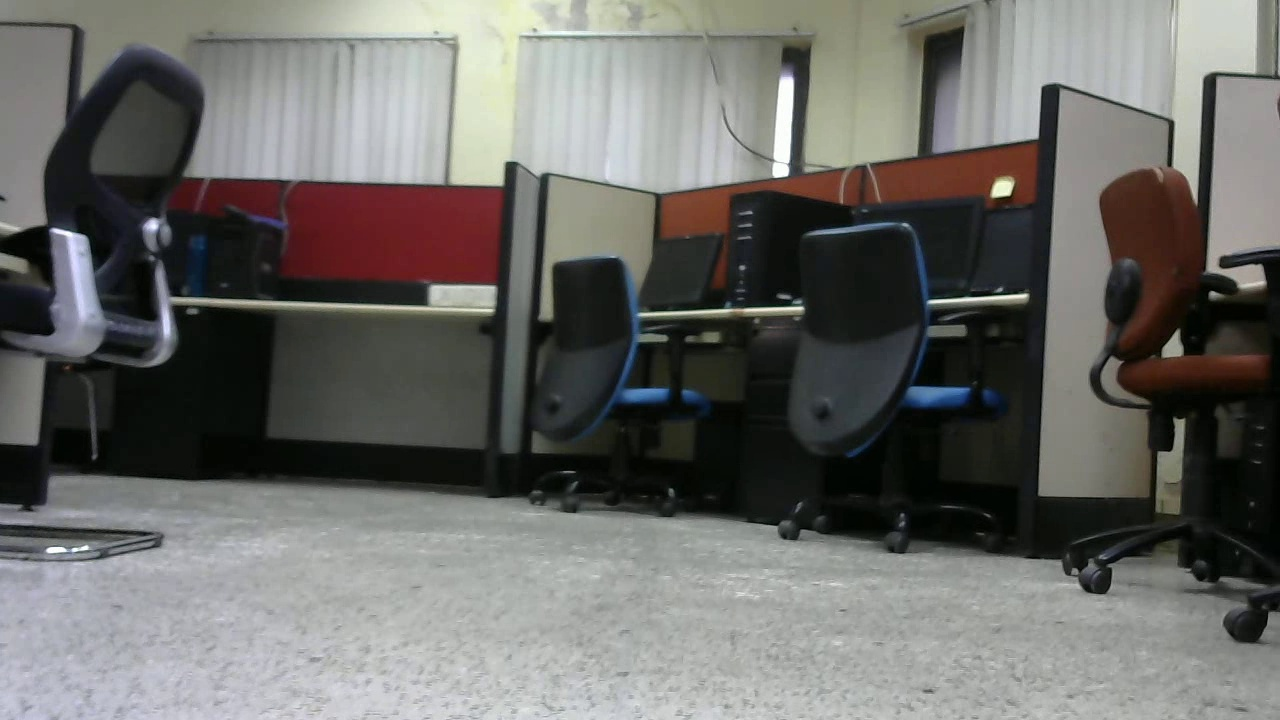chair: (1, 39, 241, 559), (1071, 152, 1280, 597), (778, 215, 994, 543), (523, 248, 712, 517)
